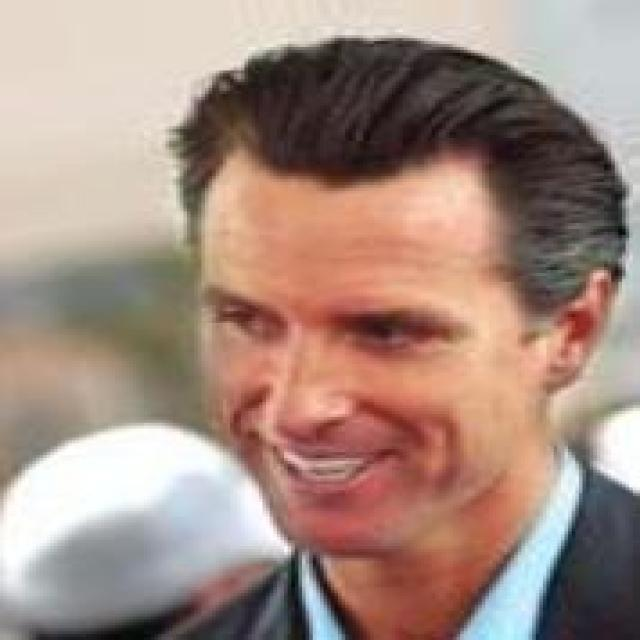bareface: (182, 68, 586, 540)
